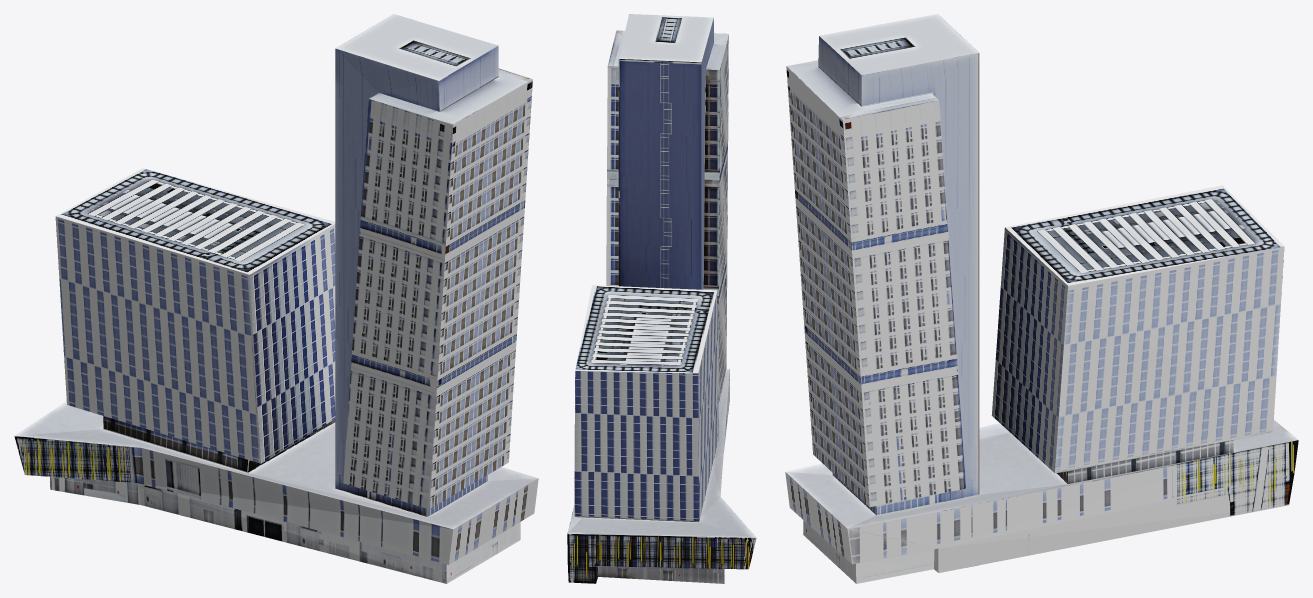
File: 4.12placed.glb
The picture shows the model from 3 angles, left to right: view 1: azimuth 30°, elevation 25°; view 2: azimuth 150°, elevation 25°; view 3: azimuth 270°, elevation 25°; orthographic projection. The views are drawn at different scales.
Parts seen in each view (by area): view 1: 4.12copy; view 2: 4.12copy; view 3: 4.12copy.
Boxes of the visible parts, x1,y1,x2,y2 form: 4.12copy: (14, 14, 538, 583); 4.12copy: (567, 14, 756, 583); 4.12copy: (785, 14, 1298, 583).
Size of the model in its own units: 76.99 by 104 by 96.87.
Materials: 1 (1 with a texture image).
